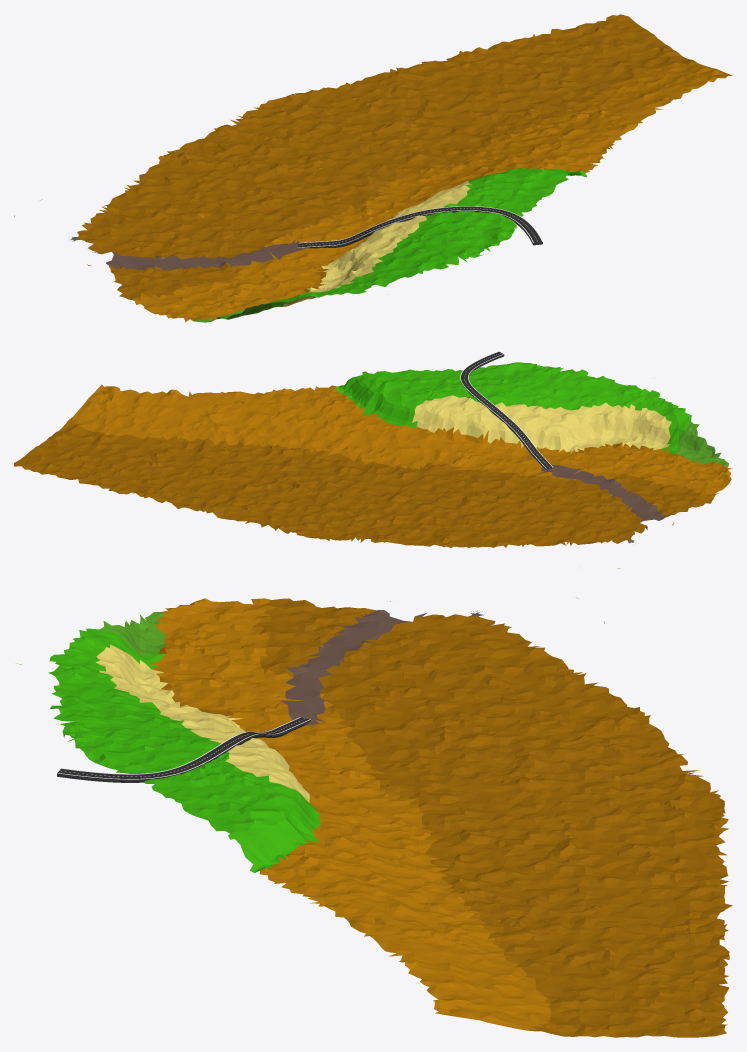
Rendered from realBase archivement.glb.
3 renders of one model, top to bottom at view 1: azimuth 30°, elevation 25°; view 2: azimuth 150°, elevation 25°; view 3: azimuth 270°, elevation 25°, orthographic. The views are drawn at different scales.
Parts seen in each view (by area): view 1: Landscape, Cube; view 2: Landscape, Cube; view 3: Landscape, Cube.
Boxes of the visible parts, <box> form: Landscape: <box>14,14,732,322</box>; Cube: <box>298,206,542,248</box>; Landscape: <box>14,362,732,568</box>; Cube: <box>460,351,553,469</box>; Landscape: <box>17,597,732,1037</box>; Cube: <box>57,717,310,782</box>.
Bounding box in the file's own units: 203 × 11.53 × 141.
